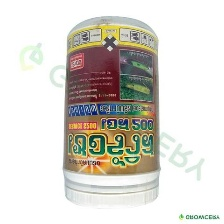insecticide: (57, 12, 162, 212)
